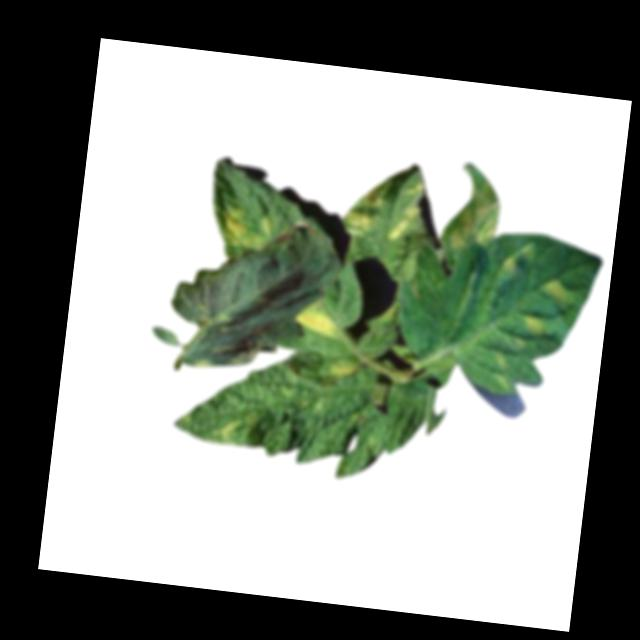Leaf_Mold: (446, 160, 507, 254), (179, 319, 274, 376), (212, 197, 278, 253), (385, 176, 427, 244), (342, 182, 391, 238), (497, 237, 538, 279), (218, 408, 261, 448), (294, 306, 341, 336), (543, 275, 576, 307), (326, 351, 362, 380), (520, 313, 545, 339)
